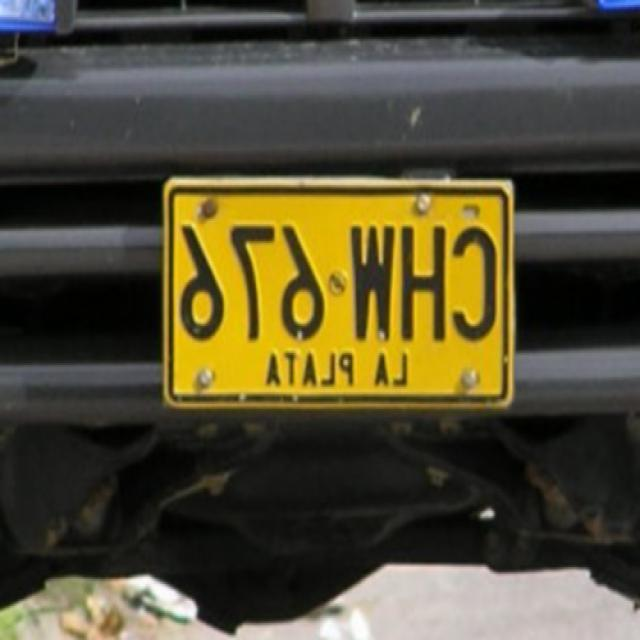placas: (171, 204, 502, 347)
